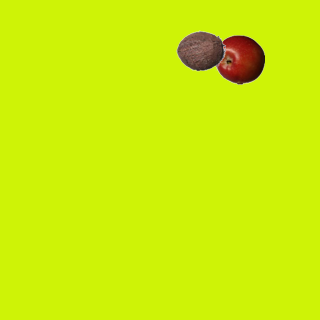Apple Braeburn: (214, 34, 264, 84)
Cocos: (175, 25, 225, 75)
